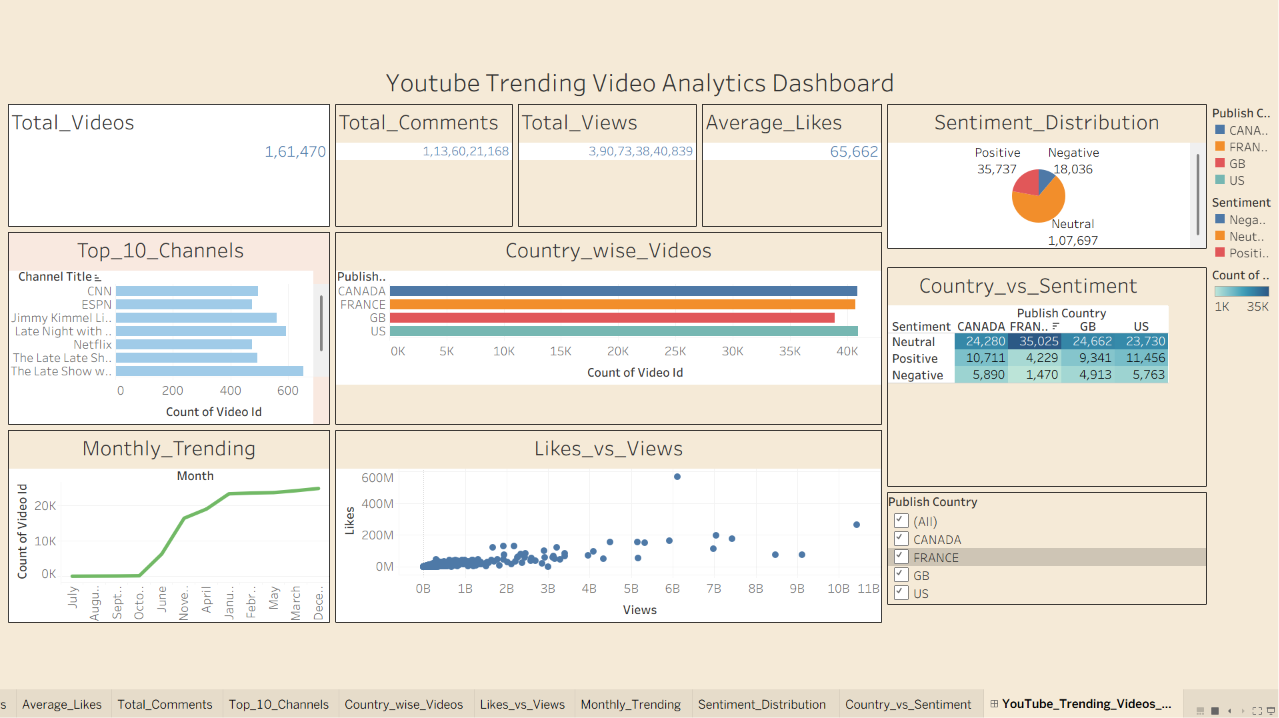

Layout of this report page (visuals, bound fields, positions):
{"tool":"tableau","page":{"name":"YouTube_Trending_Videos_Dashboard","canvas":[1000,1000],"units":"permille","ordinal":0},"visuals":[{"type":"title","box":[5,9.9,990,72]},{"type":"worksheet","title":"Total_Videos","mark":"Automatic","box":[5,81.9,252.5,221.9]},{"type":"worksheet","title":"Total_Comments","mark":"Automatic","box":[257.5,81.9,141.1,221.9]},{"type":"worksheet","title":"Total_Views","mark":"Automatic","box":[398.5,81.9,142,221.9]},{"type":"worksheet","title":"Average_Likes","mark":"Automatic","box":[540.5,81.9,142.8,221.9]},{"type":"worksheet","title":"Sentiment_Distribution","mark":"Pie","box":[683.3,81.9,250.6,279.2]},{"type":"legend","title":"Country_wise_Videos","param":"[federated.0uxzi3t0yih3sd19j4ipe1s15ech].[none:publish_country:nk]","box":[933.9,81.9,61.1,166.3]},{"type":"legend","title":"Sentiment_Distribution","param":"[federated.0uxzi3t0yih3sd19j4ipe1s15ech].[none:Sentiment:nk]","box":[933.9,248.2,61.1,135.2]},{"type":"worksheet","title":"Top_10_Channels","mark":"Automatic","rows":["channel_title"],"cols":["video_id"],"box":[5,303.8,252.5,343.2]},{"type":"worksheet","title":"Country_wise_Videos","mark":"Automatic","rows":["publish_country"],"cols":["video_id"],"box":[257.5,303.8,425.8,343.7]},{"type":"worksheet","title":"Country_vs_Sentiment","mark":"Square","rows":["Sentiment"],"cols":["publish_country"],"box":[683.3,364.8,250.6,418.1]},{"type":"legend","title":"Country_vs_Sentiment","param":"[federated.0uxzi3t0yih3sd19j4ipe1s15ech].[cnt:video_id:qk]","box":[933.9,383.4,61.1,100.5]},{"type":"worksheet","title":"Monthly_Trending","mark":"Line","rows":["video_id"],"cols":["Month"],"box":[5,646.9,252.5,343.2]},{"type":"worksheet","title":"Likes_vs_Views","mark":"Circle","rows":["likes"],"cols":["views"],"box":[257.5,647.5,425.8,342.6]},{"type":"filter","title":"Country_wise_Videos","param":"[federated.0uxzi3t0yih3sd19j4ipe1s15ech].[none:publish_country:nk]","box":[683.3,782.9,250.6,207.2]}]}

Visuals, with their boxes on the dashboard's canvas, which has no fixed pixel size, in thousandths of its width and height (x1, y1, x2, y2). These are canvas units, not pixel positions in the 1279x718 screenshot, which may show the page scaled, cropped or inside an application window:
title: region(5, 10, 995, 82)
"Total_Videos" worksheet: region(5, 82, 258, 304)
"Total_Comments" worksheet: region(258, 82, 399, 304)
"Total_Views" worksheet: region(398, 82, 540, 304)
"Average_Likes" worksheet: region(540, 82, 683, 304)
"Sentiment_Distribution" worksheet (Pie marks): region(683, 82, 934, 361)
"Country_wise_Videos" legend: region(934, 82, 995, 248)
"Sentiment_Distribution" legend: region(934, 248, 995, 383)
"Top_10_Channels" worksheet: region(5, 304, 258, 647)
"Country_wise_Videos" worksheet: region(258, 304, 683, 648)
"Country_vs_Sentiment" worksheet (Square marks): region(683, 365, 934, 783)
"Country_vs_Sentiment" legend: region(934, 383, 995, 484)
"Monthly_Trending" worksheet (Line marks): region(5, 647, 258, 990)
"Likes_vs_Views" worksheet (Circle marks): region(258, 648, 683, 990)
"Country_wise_Videos" filter: region(683, 783, 934, 990)
